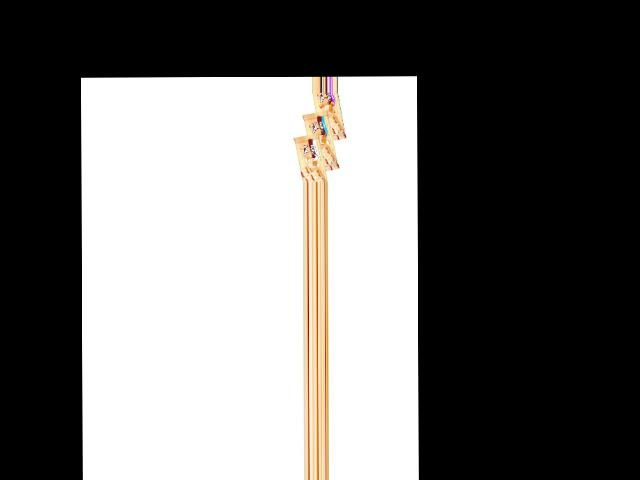chocolate: (311, 91, 343, 145)
